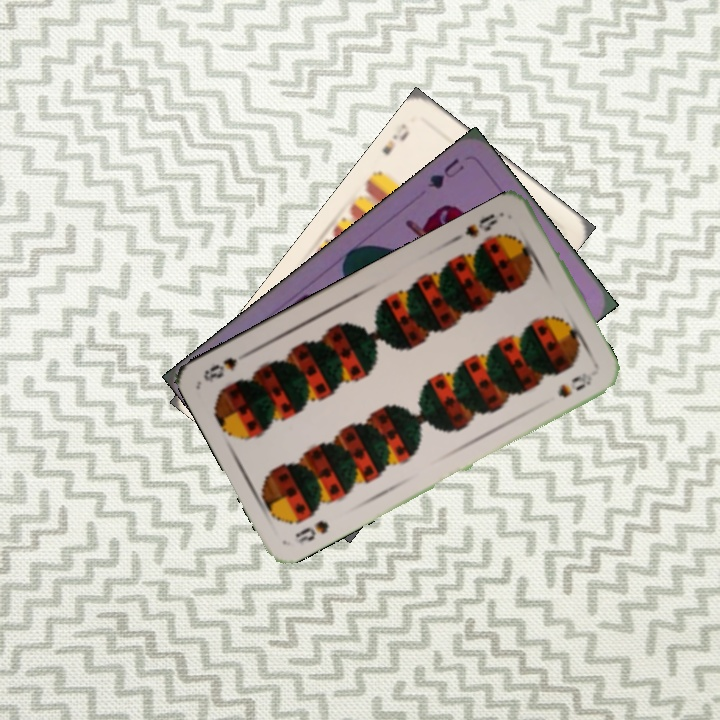E9: (378, 119, 412, 158)
GU: (424, 154, 467, 192)
S8: (290, 516, 332, 546), (461, 209, 501, 240)
